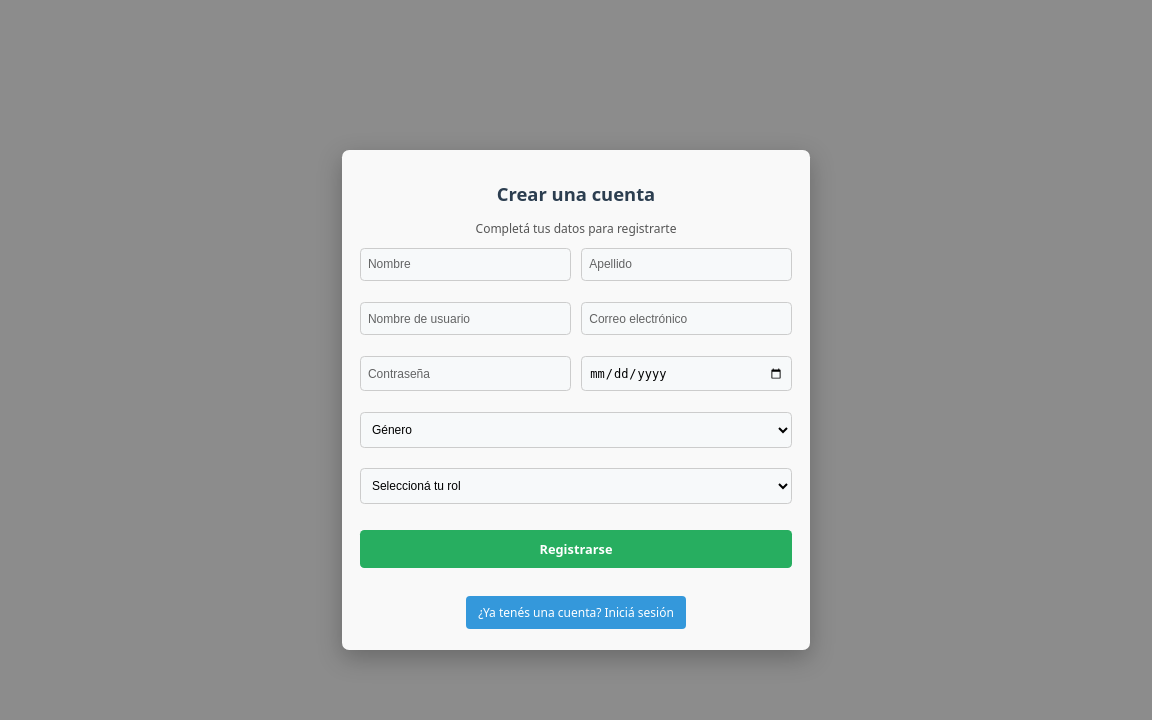
Test: Register.jsx › muestra error si faltan campos obligatorios
The width and height of the screenshot is (1152, 720).
Click the button "Registrarse" at coordinates (576, 549), box [360, 530, 792, 568]
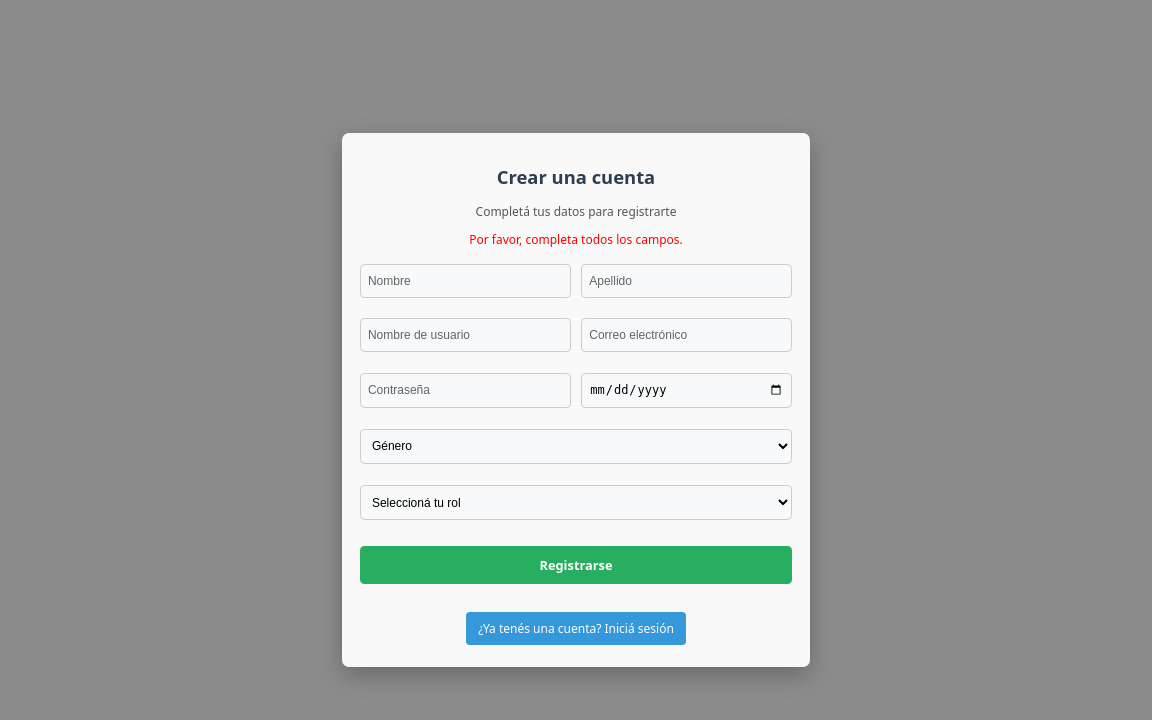
Expected: the text "Por favor, completa todos los campos." is shown, [469, 231, 683, 248]
